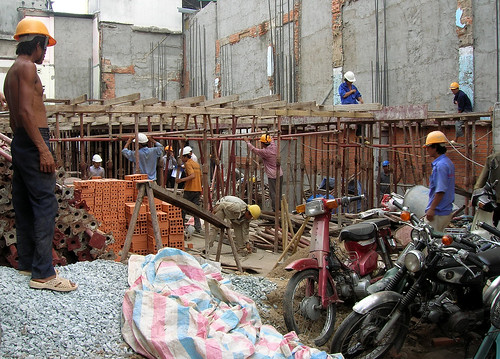person hardhat: (7, 18, 97, 295), (244, 131, 288, 221), (422, 130, 461, 230), (121, 129, 164, 180), (178, 147, 205, 211), (336, 71, 364, 105), (448, 80, 474, 113), (379, 159, 396, 204), (88, 141, 106, 181), (164, 143, 180, 181)
